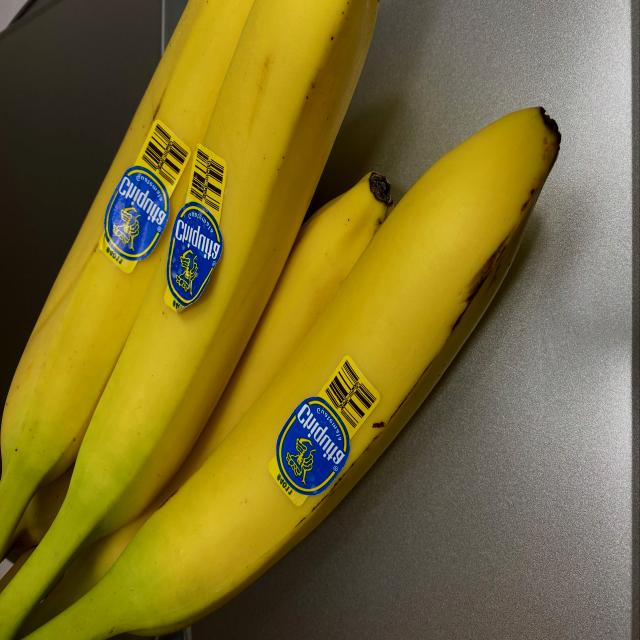banana: (1, 8, 563, 636)
